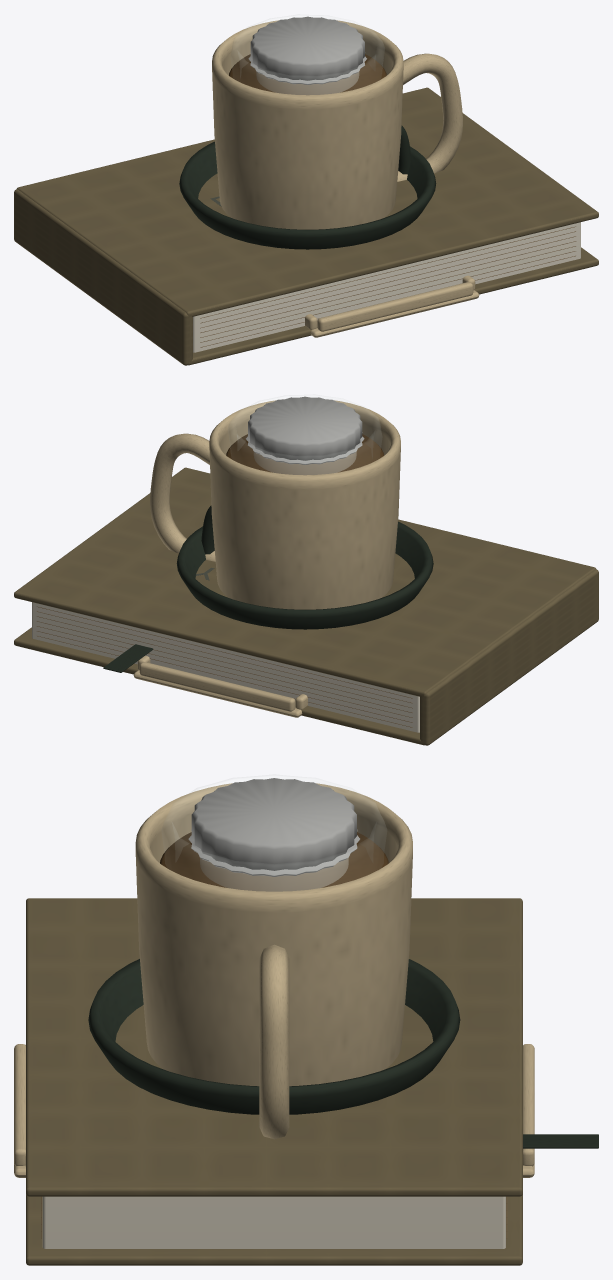
The model's file is library.glb.
3 views of the same model, one above another, from view 1: azimuth 30°, elevation 25°; view 2: azimuth 150°, elevation 25°; view 3: azimuth 270°, elevation 25° (orthographic). The views are drawn at different scales.
Parts seen in each view (by area): view 1: linen_book_linen, stoneware_mug_oat_glaze, linen_book_paper, stoneware_bowl_sage_glaze, herb_jar_steel, device_tray_oat_glaze, linen_book_unglazed, sugar_jar_wood, espresso_cup_sage_glaze; view 2: linen_book_linen, stoneware_mug_oat_glaze, linen_book_paper, stoneware_bowl_sage_glaze, herb_jar_steel, device_tray_oat_glaze, linen_book_unglazed, sugar_jar_wood, linen_book_sage_glaze, espresso_cup_sage_glaze; view 3: linen_book_linen, stoneware_mug_oat_glaze, linen_book_paper, stoneware_bowl_sage_glaze, herb_jar_steel, sugar_jar_wood, device_tray_oat_glaze, linen_book_sage_glaze.
Boxes of the visible parts, left/top/right/bottom form: linen_book_linen: left=14, top=87, right=598, bottom=365; stoneware_mug_oat_glaze: left=212, top=20, right=462, bottom=229; linen_book_paper: left=193, top=222, right=580, bottom=352; stoneware_bowl_sage_glaze: left=179, top=141, right=436, bottom=249; herb_jar_steel: left=248, top=16, right=366, bottom=84; device_tray_oat_glaze: left=305, top=275, right=479, bottom=337; linen_book_unglazed: left=200, top=226, right=576, bottom=347; sugar_jar_wood: left=229, top=54, right=386, bottom=95; espresso_cup_sage_glaze: left=398, top=125, right=411, bottom=174; linen_book_linen: left=14, top=467, right=598, bottom=745; stoneware_mug_oat_glaze: left=150, top=400, right=400, bottom=609; linen_book_paper: left=32, top=602, right=419, bottom=732; stoneware_bowl_sage_glaze: left=176, top=521, right=433, bottom=629; herb_jar_steel: left=246, top=396, right=364, bottom=464; device_tray_oat_glaze: left=133, top=655, right=307, bottom=717; linen_book_unglazed: left=36, top=606, right=412, bottom=727; sugar_jar_wood: left=226, top=434, right=383, bottom=475; linen_book_sage_glaze: left=103, top=644, right=152, bottom=672; espresso_cup_sage_glaze: left=201, top=505, right=214, bottom=554; linen_book_linen: left=26, top=898, right=522, bottom=1265; stoneware_mug_oat_glaze: left=135, top=783, right=412, bottom=1139; linen_book_paper: left=42, top=1196, right=505, bottom=1248; stoneware_bowl_sage_glaze: left=88, top=959, right=460, bottom=1114; herb_jar_steel: left=188, top=778, right=359, bottom=876; sugar_jar_wood: left=160, top=832, right=388, bottom=891; device_tray_oat_glaze: left=14, top=1044, right=534, bottom=1177; linen_book_sage_glaze: left=523, top=1134, right=598, bottom=1148.
Size of the model in its own units: 0.2055 by 0.101 by 0.173.
Materials: 14 (9 with a texture image).
